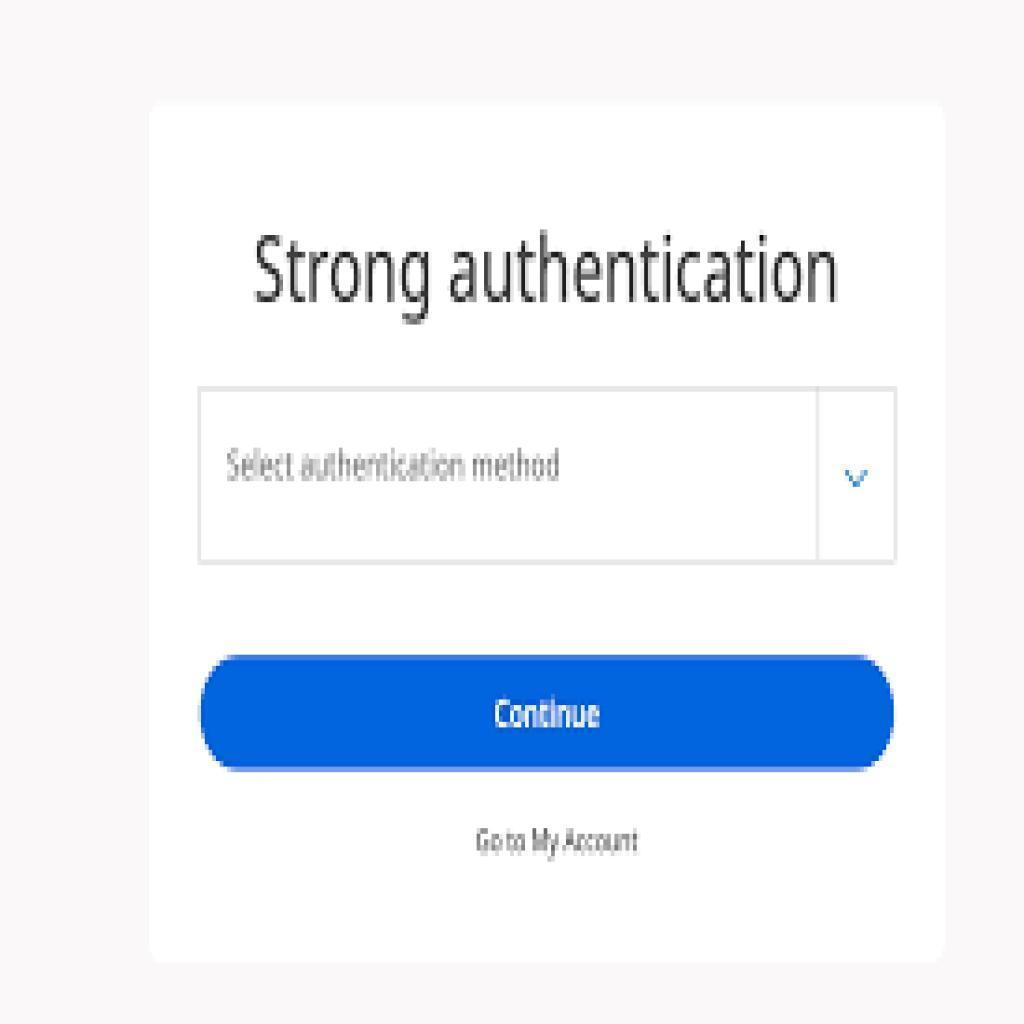button: (201, 652, 896, 774)
dropdown: (197, 391, 898, 565)
label: (255, 231, 843, 314), (469, 816, 650, 859)
